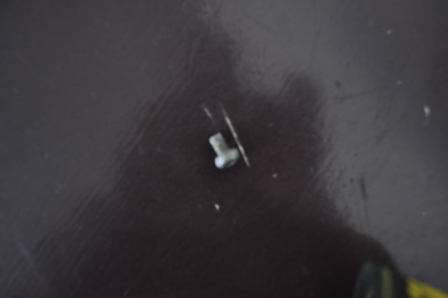NUT (MT): (204, 131, 242, 169)
